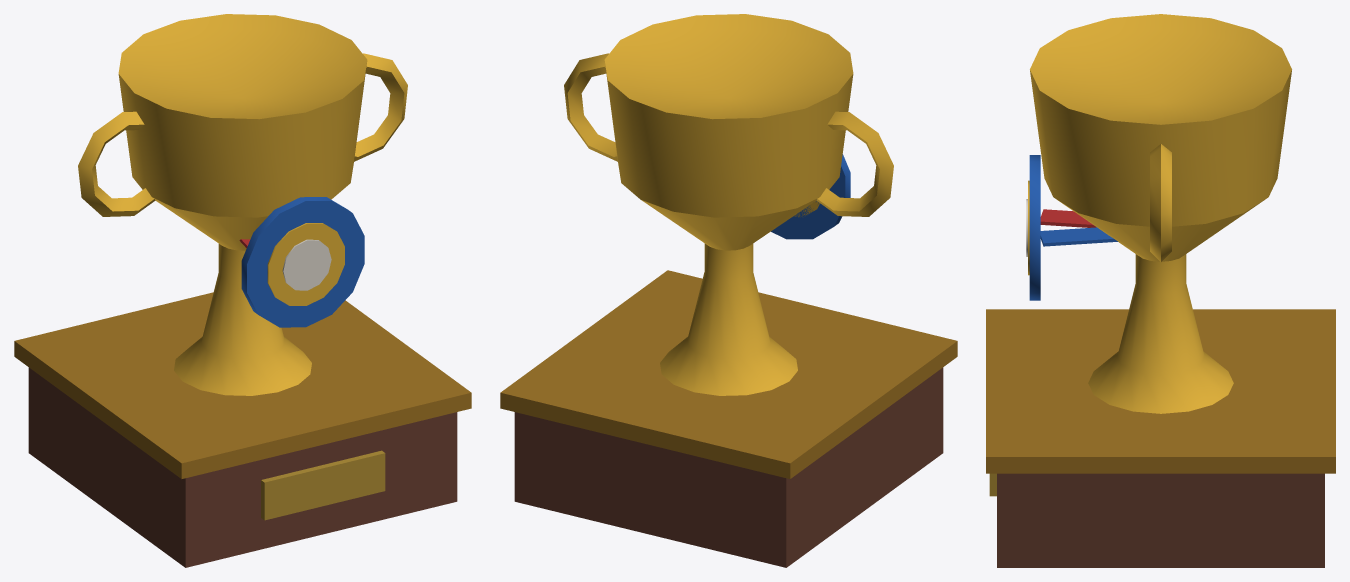
Rendered from fair_trophy.glb.
The picture shows the model from 3 angles, left to right: view 1: azimuth 30°, elevation 25°; view 2: azimuth 150°, elevation 25°; view 3: azimuth 270°, elevation 25°; orthographic projection. The views are drawn at different scales.
Visible parts, largest first — view 1: decor-fair_trophy; view 2: decor-fair_trophy; view 3: decor-fair_trophy.
Part boxes in pixels (box(x1,y1,x2,y2)): decor-fair_trophy: box(14, 14, 471, 567); decor-fair_trophy: box(500, 14, 957, 567); decor-fair_trophy: box(986, 14, 1335, 567).
Bounding box in the file's own units: 1.09 × 1.3 × 0.96.
